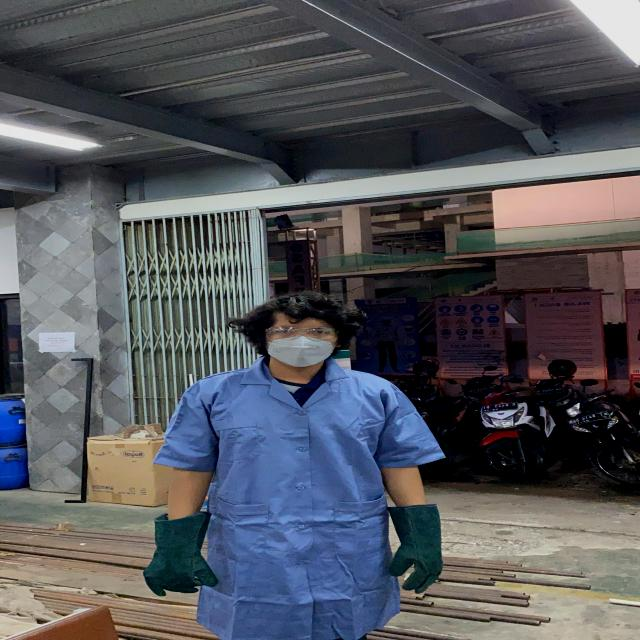face_mask: (262, 322, 346, 369)
glasses: (256, 323, 346, 341)
hand_glove: (378, 534, 461, 598), (139, 543, 225, 602)
head_nohelmet: (254, 288, 358, 327)
person: (135, 287, 450, 640)
